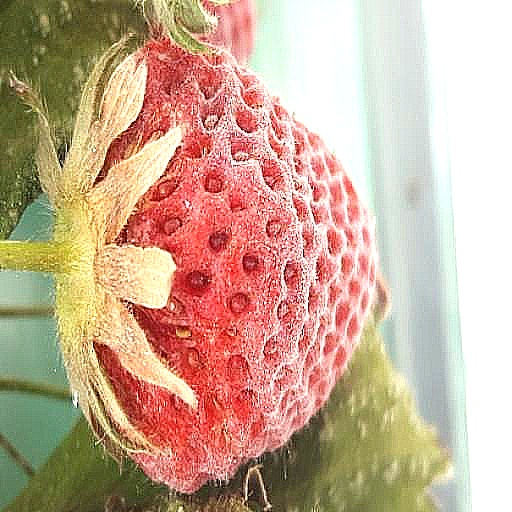Powdery Mildew Fruit: (66, 17, 379, 472)
